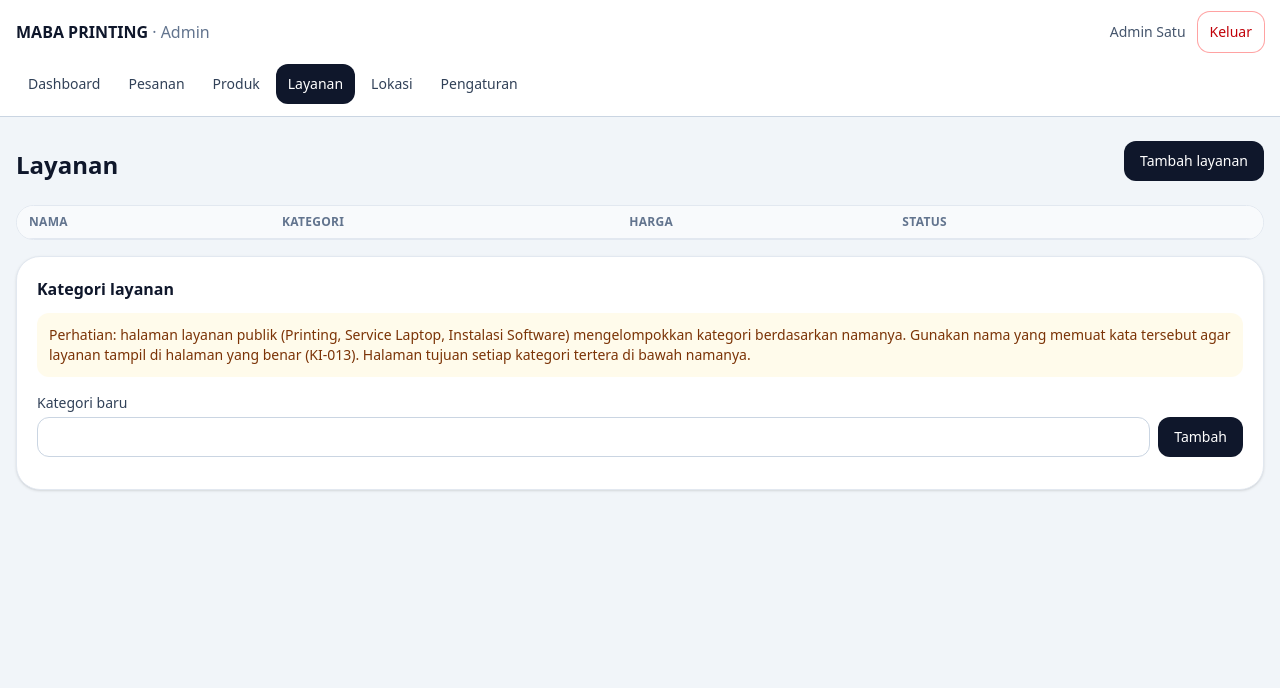
Test case: Admin catalog pages › warns about name-based service grouping and requires a fixed price
This screenshot has width=1280, height=688.
Expected: the text "mengelompokkan kategori berdasarkan namanya" is shown, [49,325,1230,364]
Click the button "Tambah layanan": (1194, 161) [1124,141,1264,181]
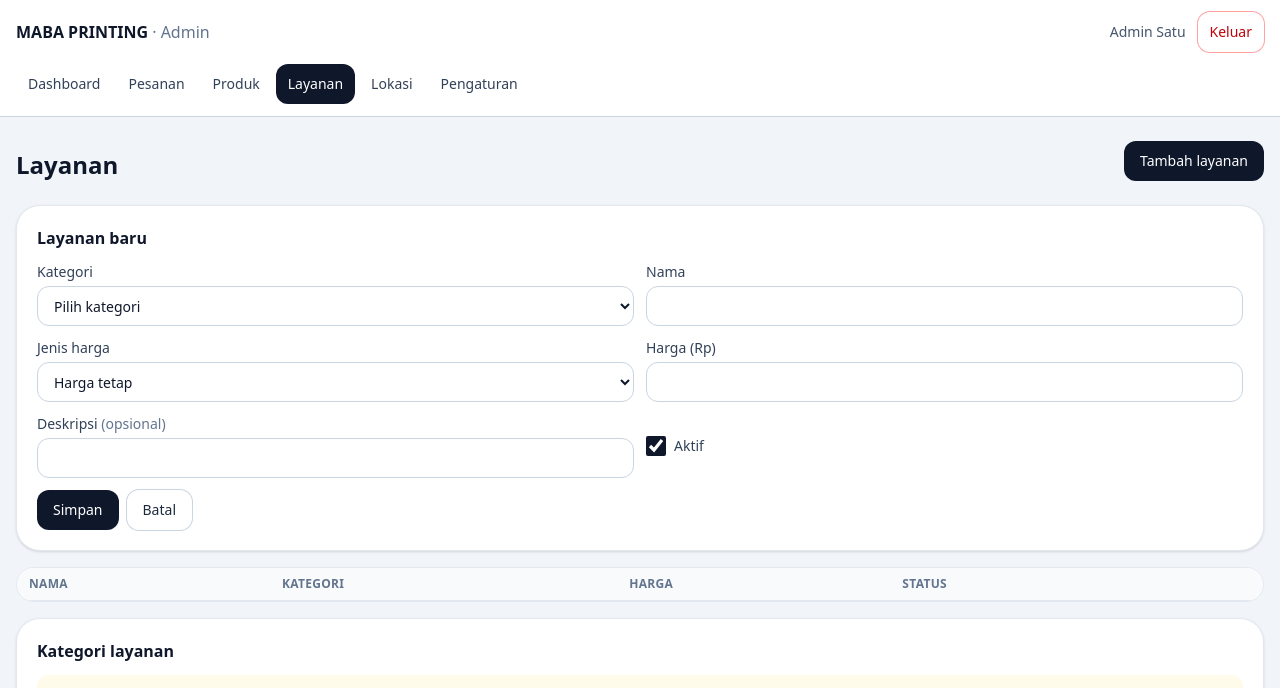
In the field labelled "Nama": (944, 306) [646,286,1243,326], type "Cetak"
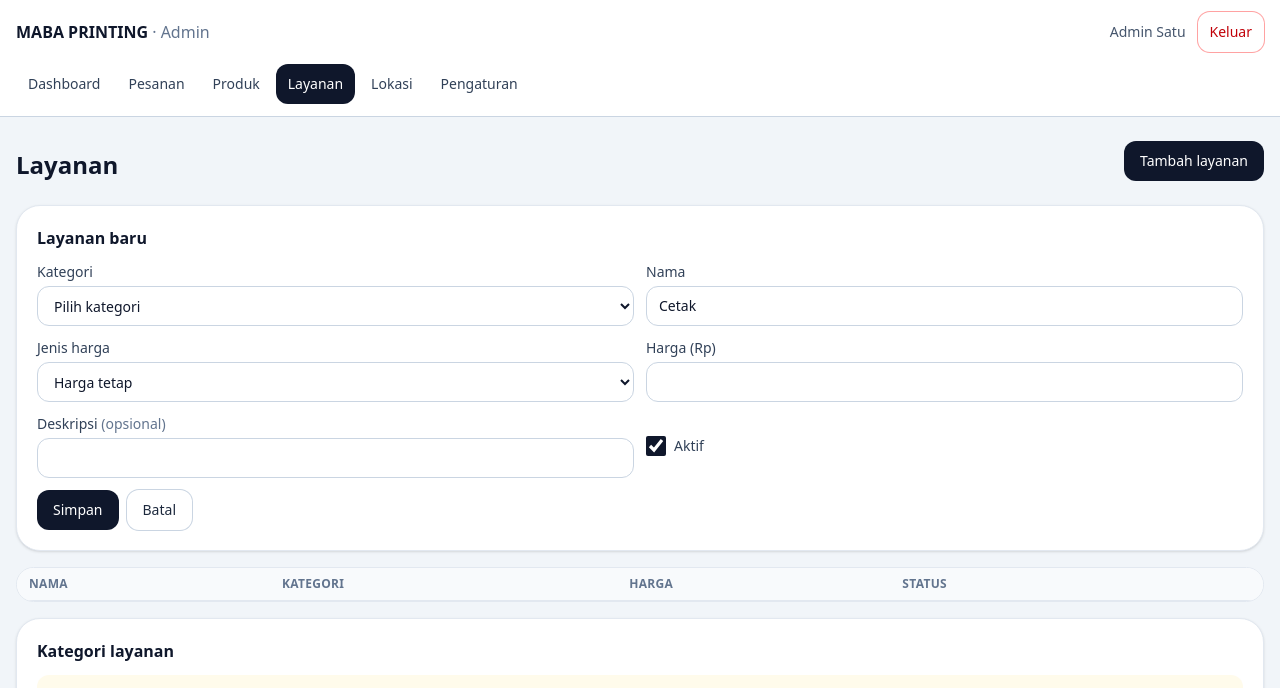
Click the button "Simpan": (78, 510) [37,490,118,530]
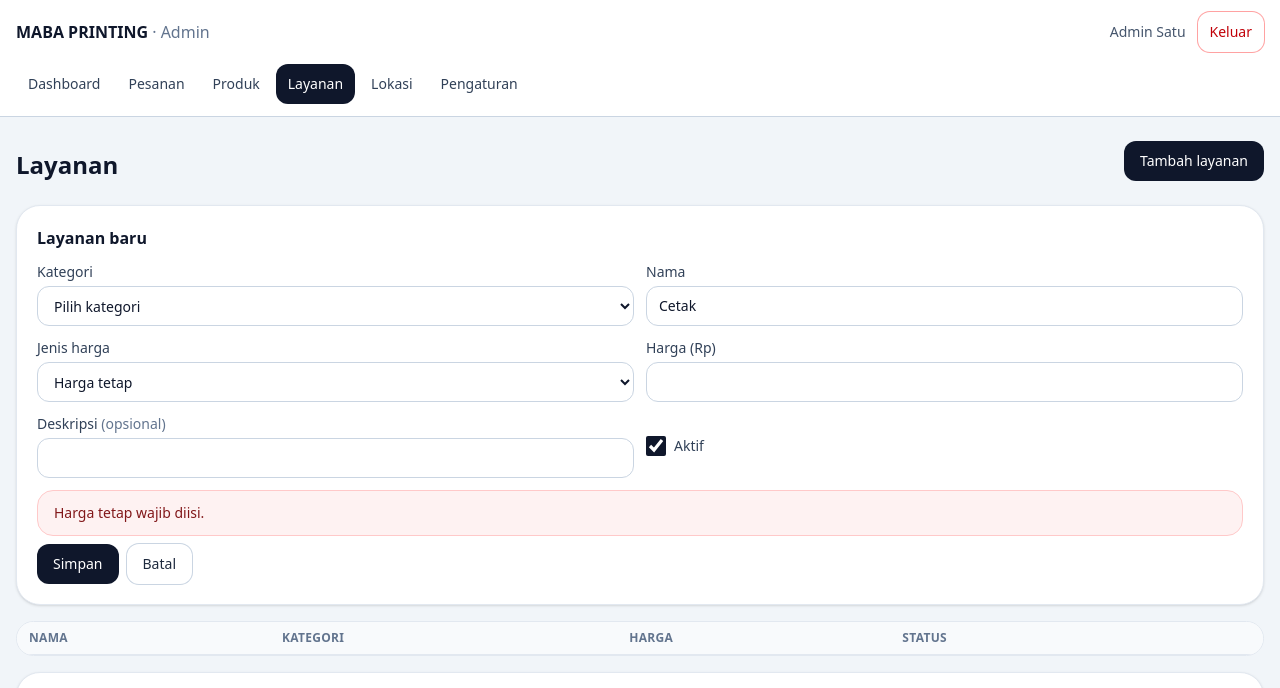
Expected: the message reads "Harga tetap wajib diisi.", [54,503,204,522]
